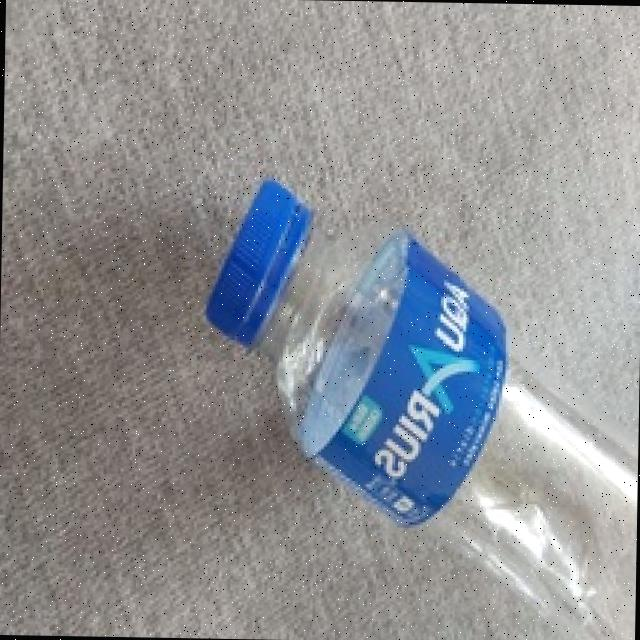bottle: (188, 140, 640, 640)
cap: (198, 178, 321, 360)
label: (294, 248, 526, 531)
